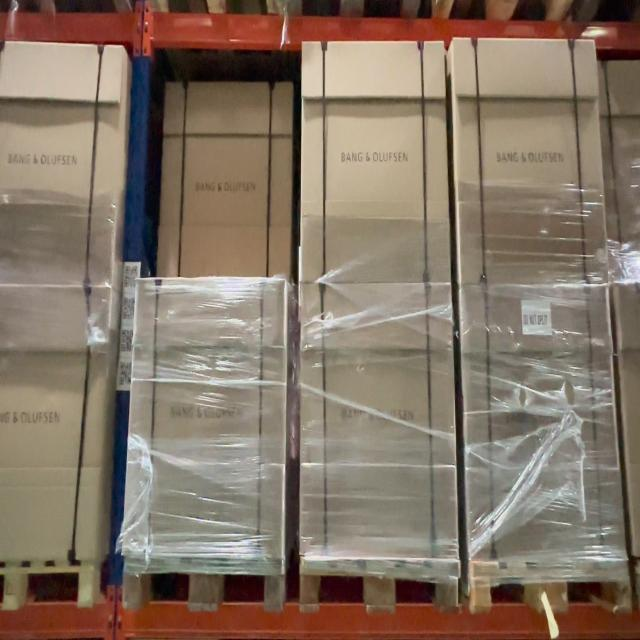box: (130, 279, 288, 556), (465, 289, 620, 552), (303, 287, 457, 551), (457, 39, 605, 280), (304, 43, 448, 279), (2, 50, 119, 276), (162, 78, 291, 273)
